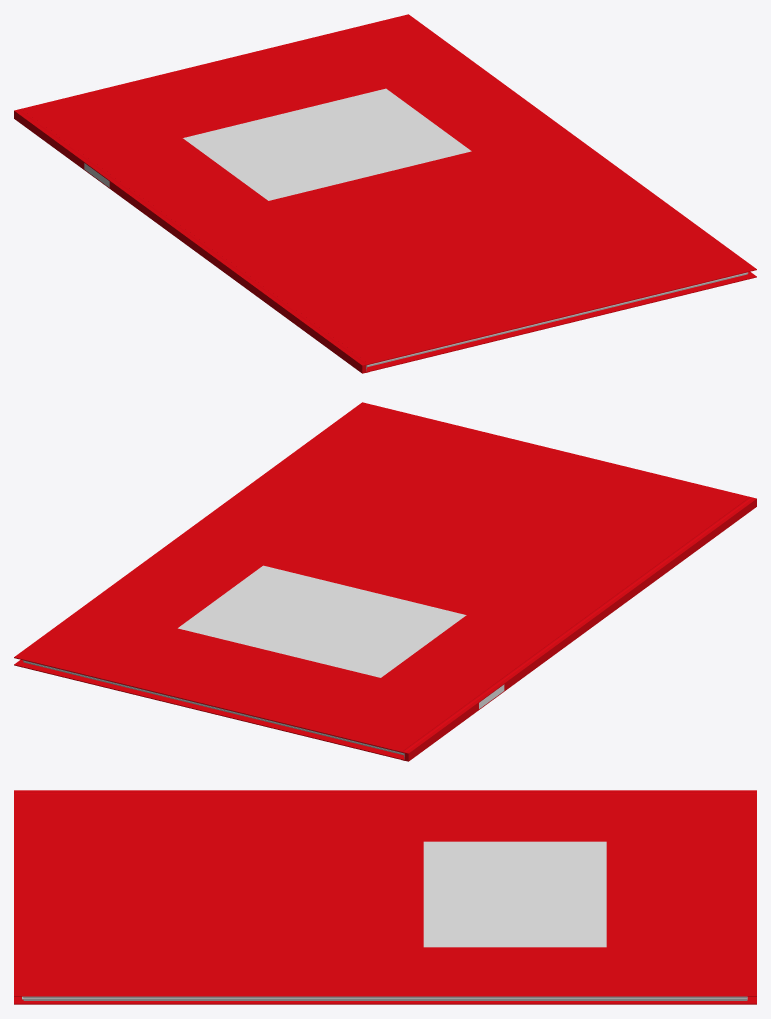
The model's file is Book_1.fbx.
The picture shows the model from 3 angles, top to bottom: view 1: azimuth 30°, elevation 25°; view 2: azimuth 150°, elevation 25°; view 3: azimuth 270°, elevation 25°; orthographic projection. The views are drawn at different scales.
Visible parts, largest first — view 1: Book_1; view 2: Book_1; view 3: Book_1.
Boxes of the visible parts, x1,y1,x2,y2 form: Book_1: (14, 14, 756, 373); Book_1: (14, 402, 756, 761); Book_1: (14, 790, 756, 1004).
Bounding box in the file's own units: 101 × 2.12 × 154.
